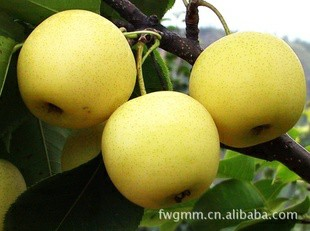pear: (17, 8, 137, 127), (101, 91, 221, 206), (189, 30, 306, 146)
